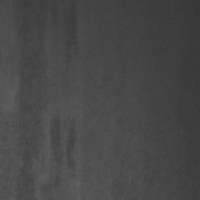inclusion: (8, 3, 52, 198), (42, 103, 81, 195), (58, 3, 82, 73)
